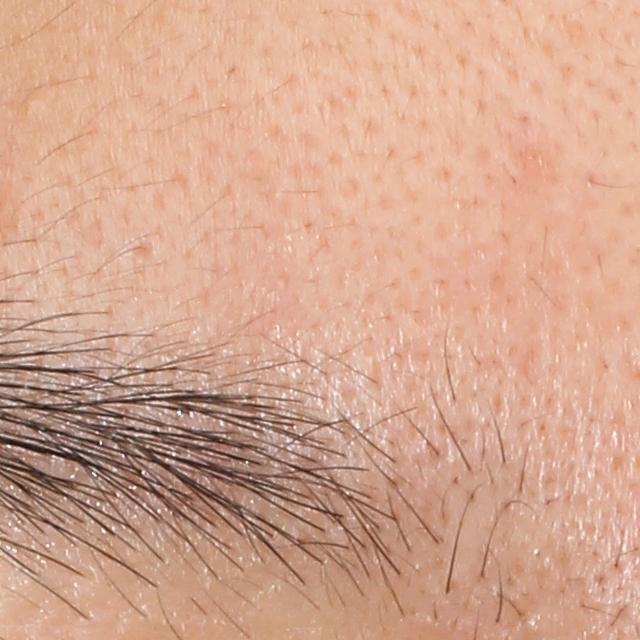comedo: (24, 92, 42, 117)
